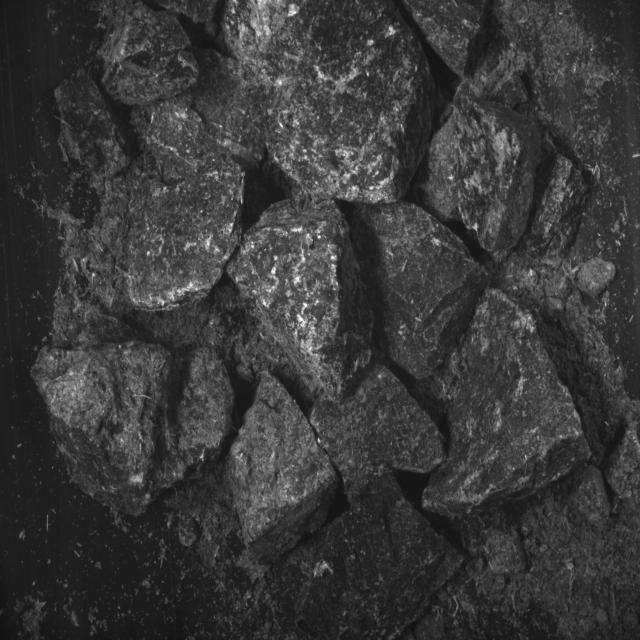Stones: (225, 1, 434, 205), (424, 289, 591, 517), (32, 343, 235, 517), (229, 200, 374, 401), (299, 474, 464, 640), (127, 101, 245, 311), (354, 204, 489, 381), (227, 374, 337, 563), (422, 91, 542, 257), (127, 154, 245, 311), (311, 366, 445, 499), (102, 3, 200, 107), (195, 50, 266, 172), (404, 1, 486, 77), (382, 556, 384, 559)
